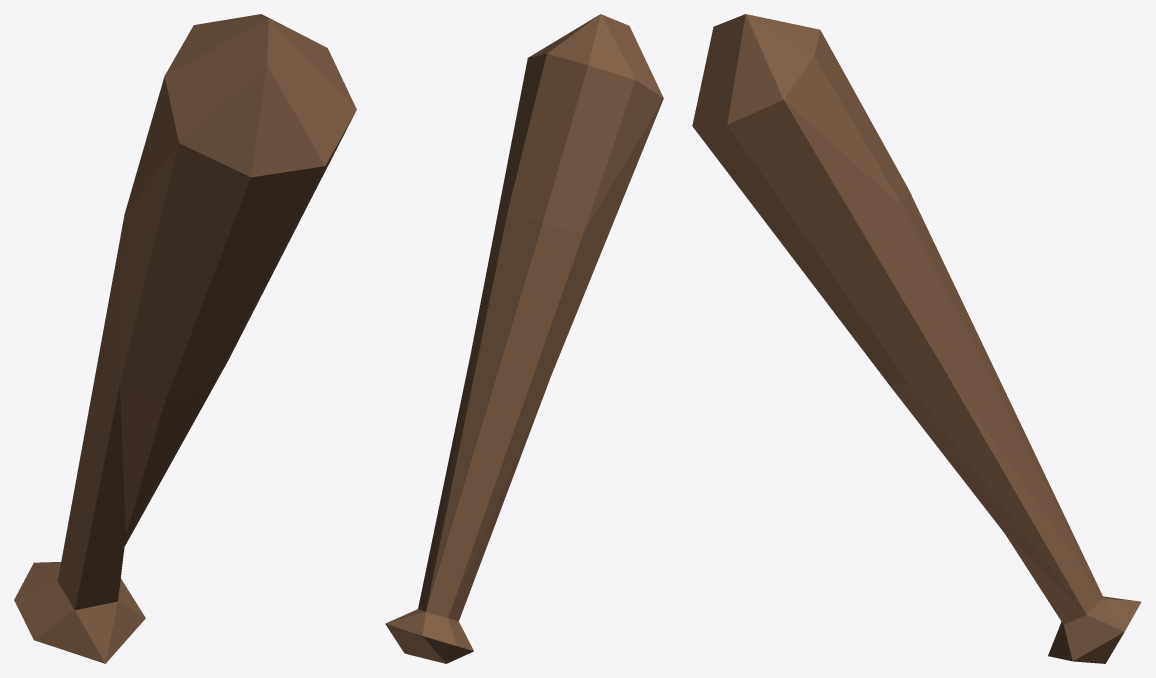
The model's file is bat.fbx.
The picture shows the model from 3 angles, left to right: view 1: azimuth 30°, elevation 25°; view 2: azimuth 150°, elevation 25°; view 3: azimuth 270°, elevation 25°; orthographic projection. The views are drawn at different scales.
Parts seen in each view (by area): view 1: Cylinder.006; view 2: Cylinder.006; view 3: Cylinder.006.
Part boxes in pixels (x1=…): Cylinder.006: x1=14, y1=14, x2=356, y2=663; Cylinder.006: x1=385, y1=14, x2=663, y2=663; Cylinder.006: x1=692, y1=14, x2=1141, y2=663.
Bounding box in the file's own units: 8.01 × 34.85 × 22.45.
